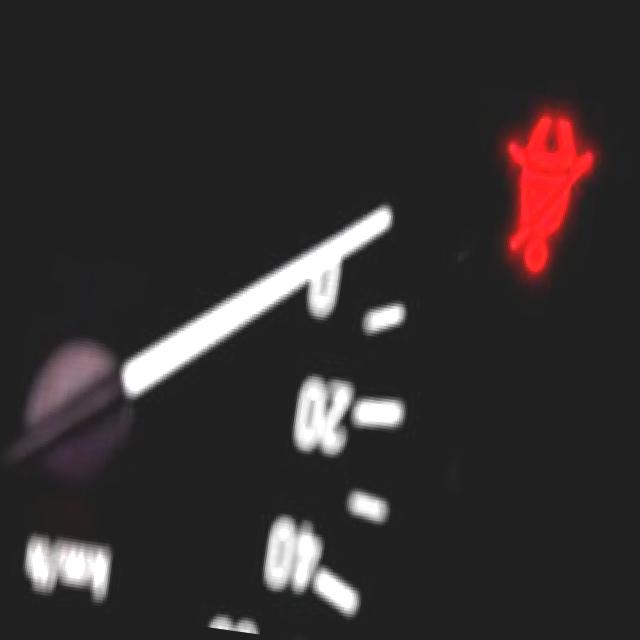kontrolka: (450, 57, 628, 307)
